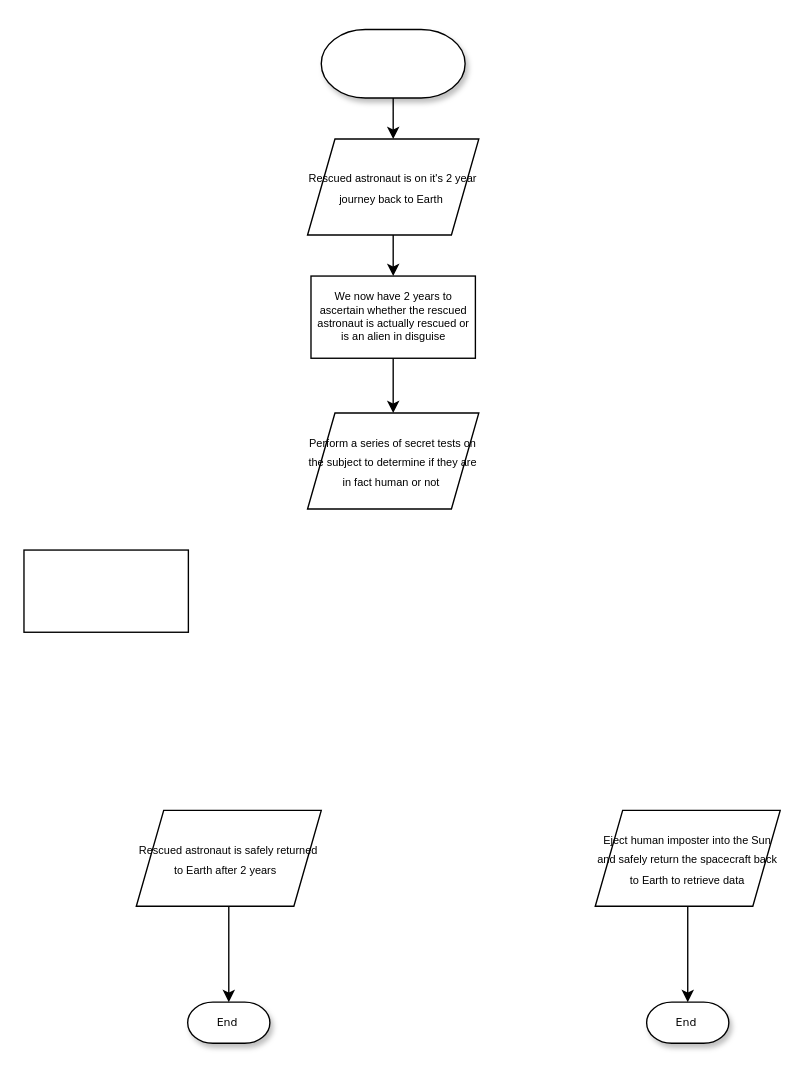
This 804x1077 diagram has some shape labels left out. Here are the shapes that lost their labels. From the top down, the centre of each, then its label:
point (393, 65): Astronaut has been successfully rescued from astroid ship
point (105, 590): Heart beat monitor test cooresponding to
